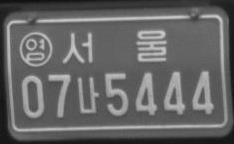0: (20, 74, 44, 118)
4: (162, 70, 186, 115), (134, 71, 157, 116), (191, 70, 214, 114)
5: (103, 72, 129, 117)
7: (47, 73, 71, 119)
나: (75, 76, 99, 114)
서울_D: (61, 27, 167, 63)
영: (19, 31, 53, 67)
